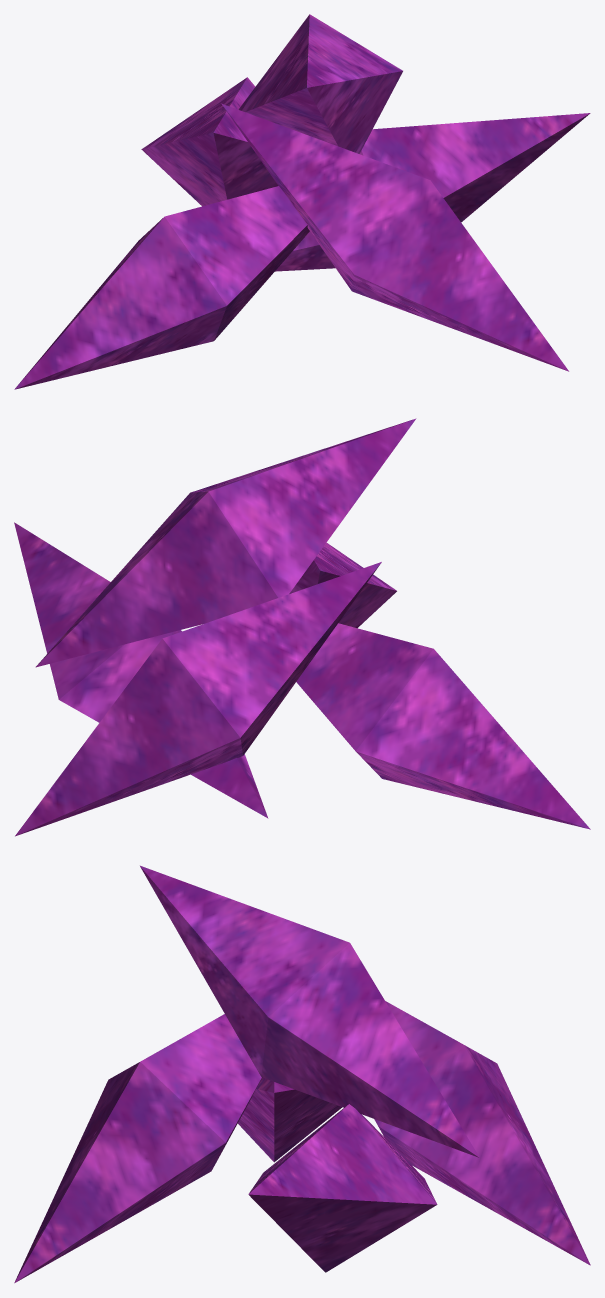
Rendered from Piedras_pequenyas.obj.
The picture shows the model from 3 angles, top to bottom: view 1: azimuth 30°, elevation 25°; view 2: azimuth 150°, elevation 25°; view 3: azimuth 270°, elevation 25°; orthographic projection. The views are drawn at different scales.
Visible parts, largest first — view 1: Piedras_peq; view 2: Piedras_peq; view 3: Piedras_peq.
Boxes of the visible parts, x1,y1,x2,y2 form: Piedras_peq: (14, 14, 590, 389); Piedras_peq: (14, 418, 590, 836); Piedras_peq: (14, 865, 590, 1283).
Bounding box in the file's own units: 1.28 × 0.6341 × 1.06.
Materials: 1 (1 with a texture image).
